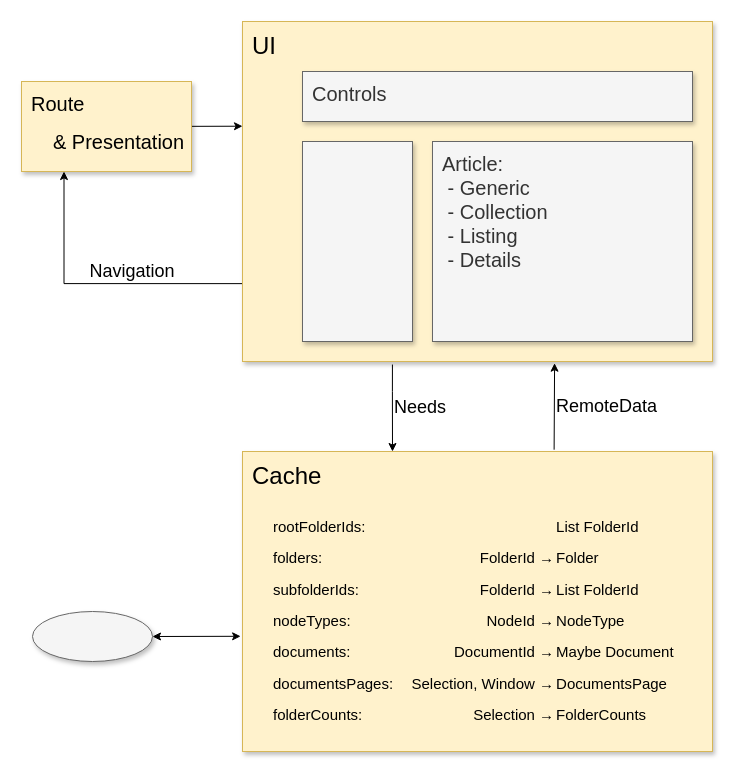
The diagram is 736 pixels wide and 776 high, and some of its shapes have lost their labels. Here are the shapes that lost their labels. From the top down, the centre of each, then its label:
At (358,242): "Tree".
At (93,637): "API".
